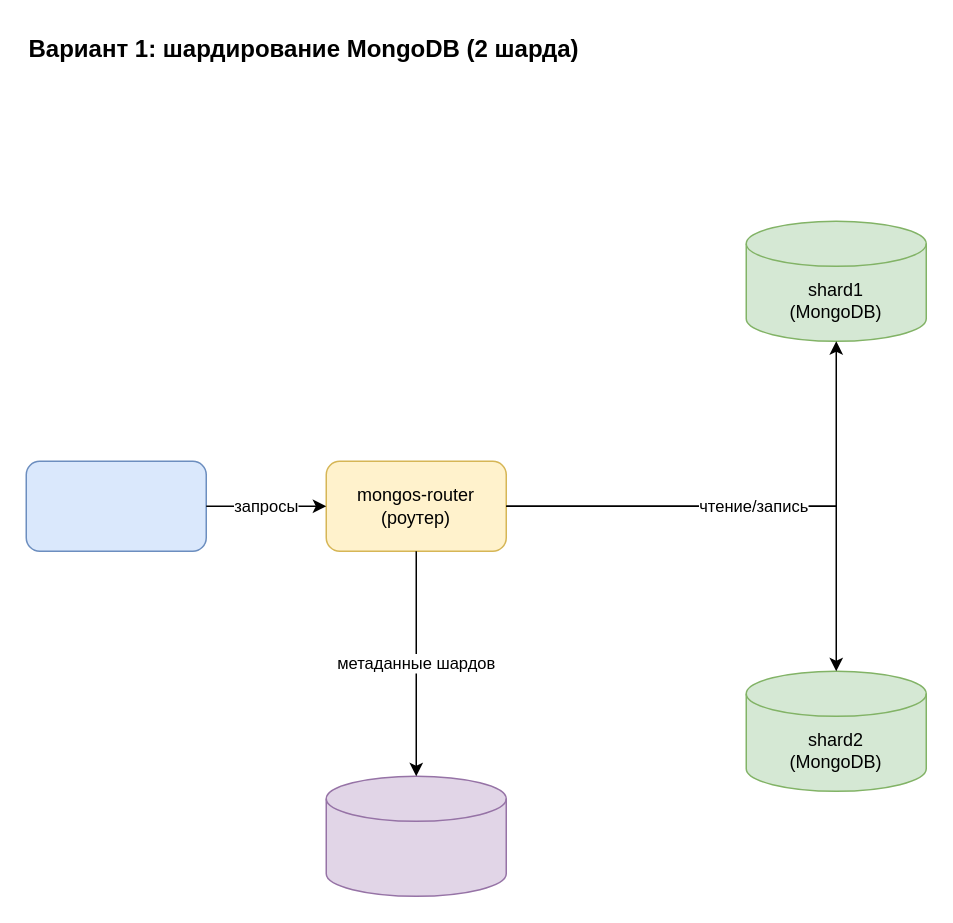
The diagram is 953 pixels wide and 923 high, and some of its shapes have lost their labels. Each missing label, with the centre of its shape:
configSrv (config server): [415,835]
pymongo-api (приложение): [115,505]
